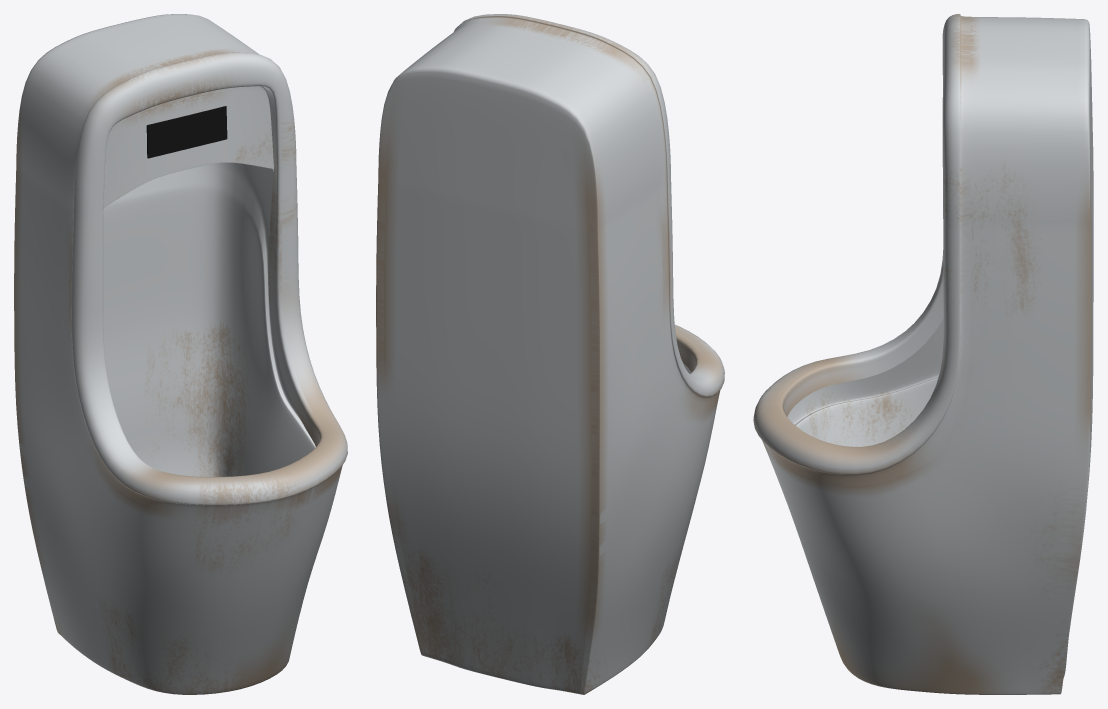
The model's file is M_StandToilet.fbx.
The picture shows the model from 3 angles, left to right: view 1: azimuth 30°, elevation 25°; view 2: azimuth 150°, elevation 25°; view 3: azimuth 270°, elevation 25°; orthographic projection. The views are drawn at different scales.
Parts seen in each view (by area): view 1: toiket_GEO, sensor_GEO; view 2: toiket_GEO; view 3: toiket_GEO.
Boxes of the visible parts, box(x1,y1,x2,y2) form: toiket_GEO: box(14, 14, 347, 694); sensor_GEO: box(146, 106, 227, 158); toiket_GEO: box(376, 14, 724, 694); toiket_GEO: box(753, 14, 1093, 694).
Size of the model in its own units: 32.81 by 82.07 by 41.09.
1 material, 1 textured.
